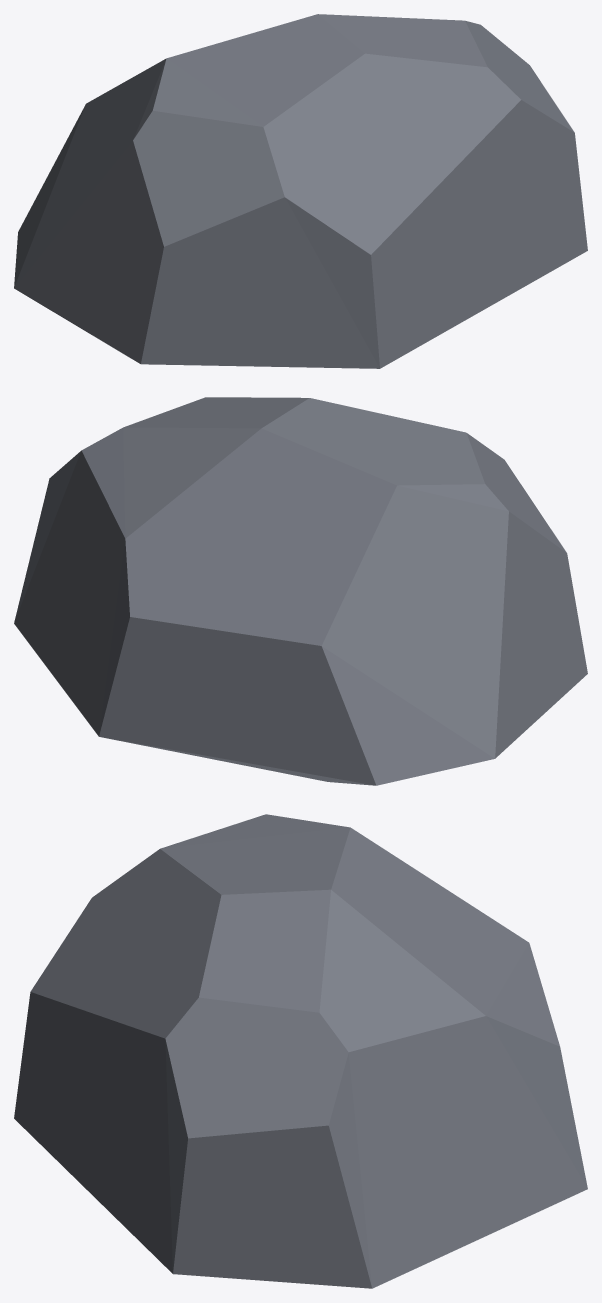
The model's file is Rock_Round_m_11.fbx.
3 renders of one model, top to bottom at view 1: azimuth 30°, elevation 25°; view 2: azimuth 150°, elevation 25°; view 3: azimuth 270°, elevation 25°, orthographic. The views are drawn at different scales.
Parts seen in each view (by area): view 1: Rock_Round_m_11; view 2: Rock_Round_m_11; view 3: Rock_Round_m_11.
Boxes of the visible parts, x1,y1,x2,y2 form: Rock_Round_m_11: [14, 14, 587, 368]; Rock_Round_m_11: [14, 397, 587, 785]; Rock_Round_m_11: [14, 814, 587, 1288].
Size of the model in its own units: 1.37 by 0.7772 by 1.19.
